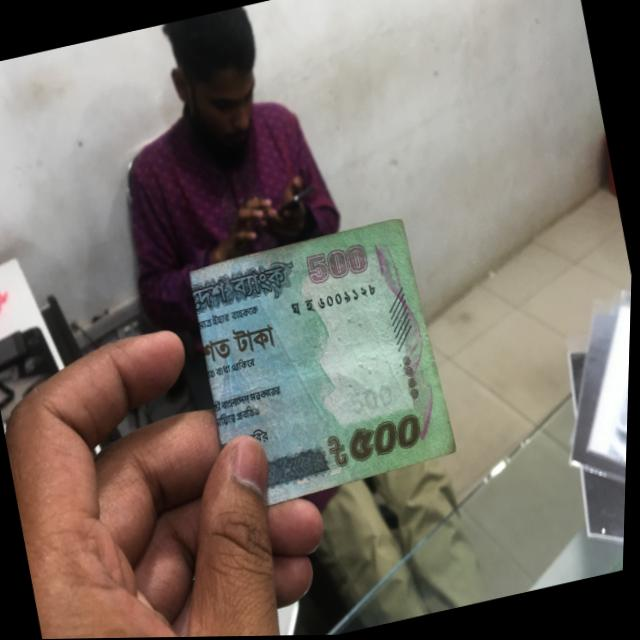Taka: (187, 217, 454, 505)
